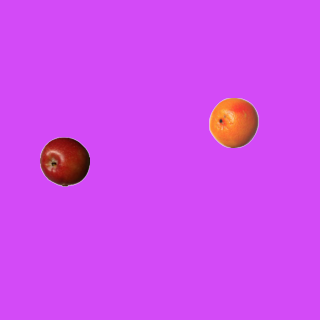Apple Braeburn: (39, 136, 89, 186)
Grapefruit Pink: (208, 97, 258, 147)
